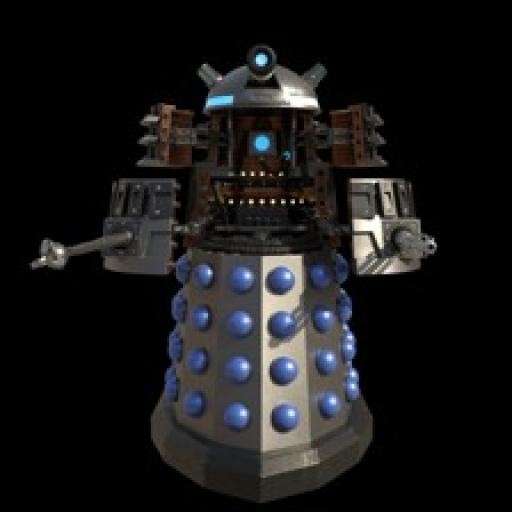dalek: (28, 42, 447, 504)
